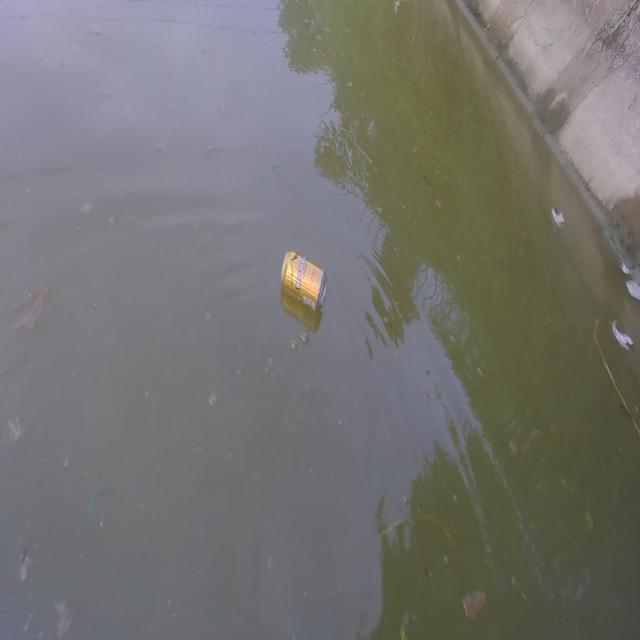garbage: (280, 248, 327, 312)
